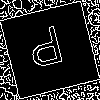P: (25, 24, 68, 78)
